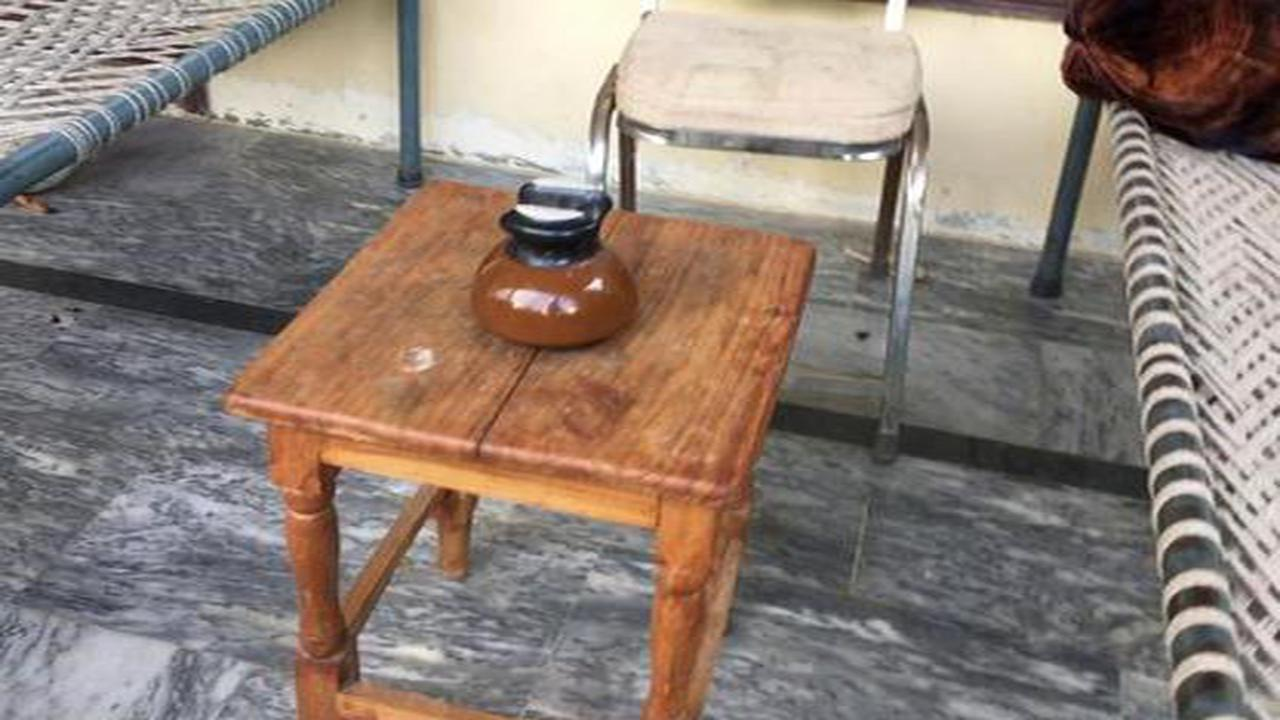insulator_pin: (462, 153, 650, 361)
